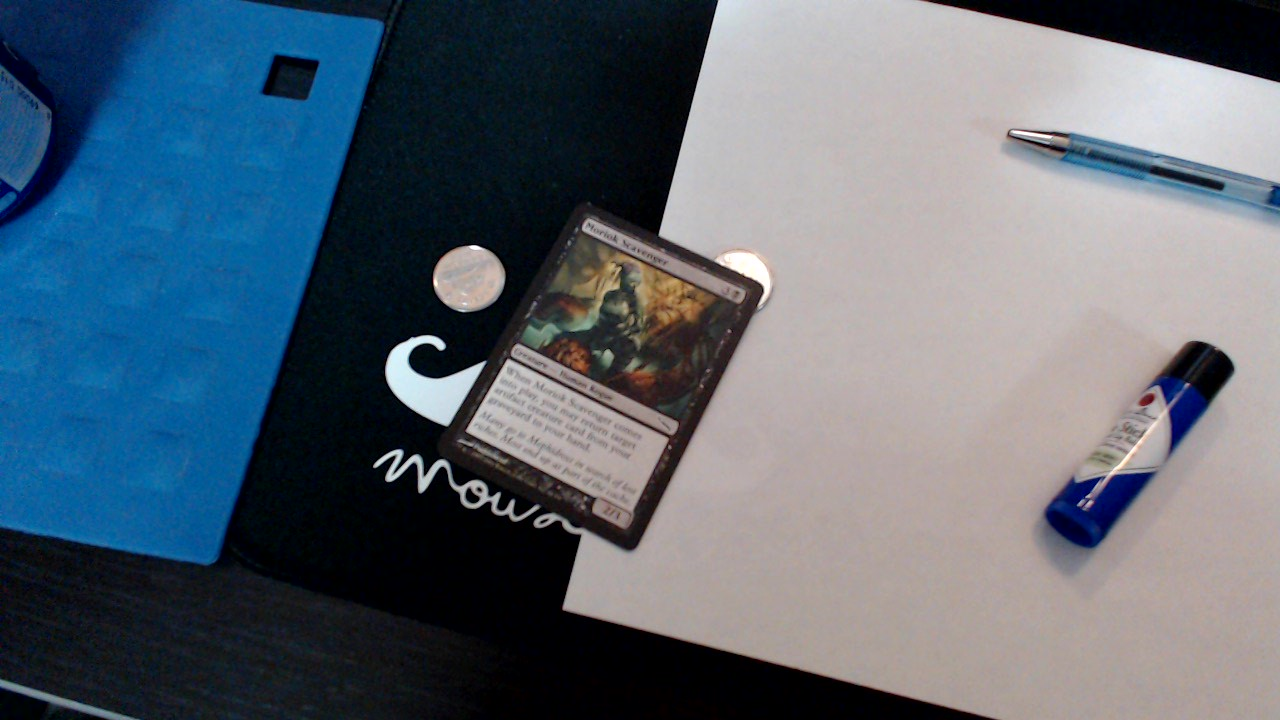MTG Card: (426, 194, 780, 562)
